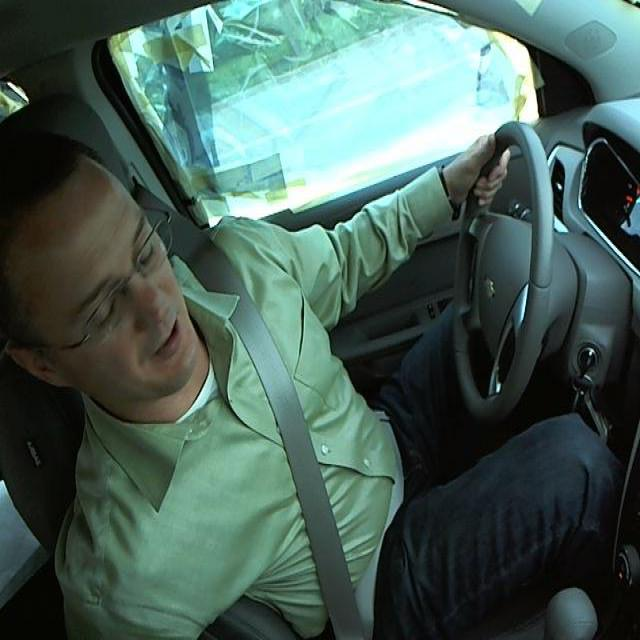seatbelt: (216, 290, 409, 618)
